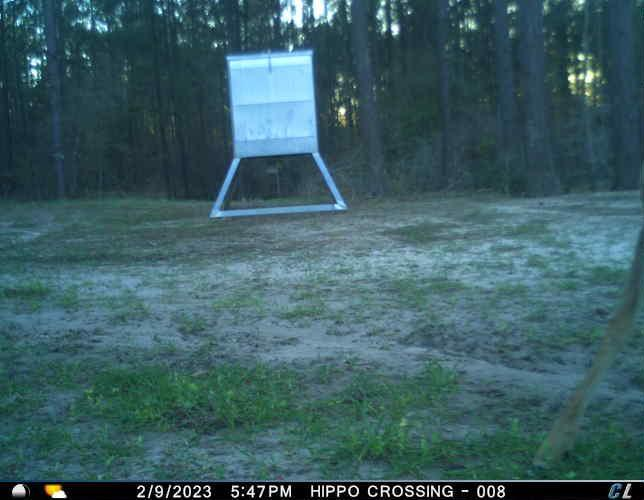Deer: (542, 174, 640, 467)
